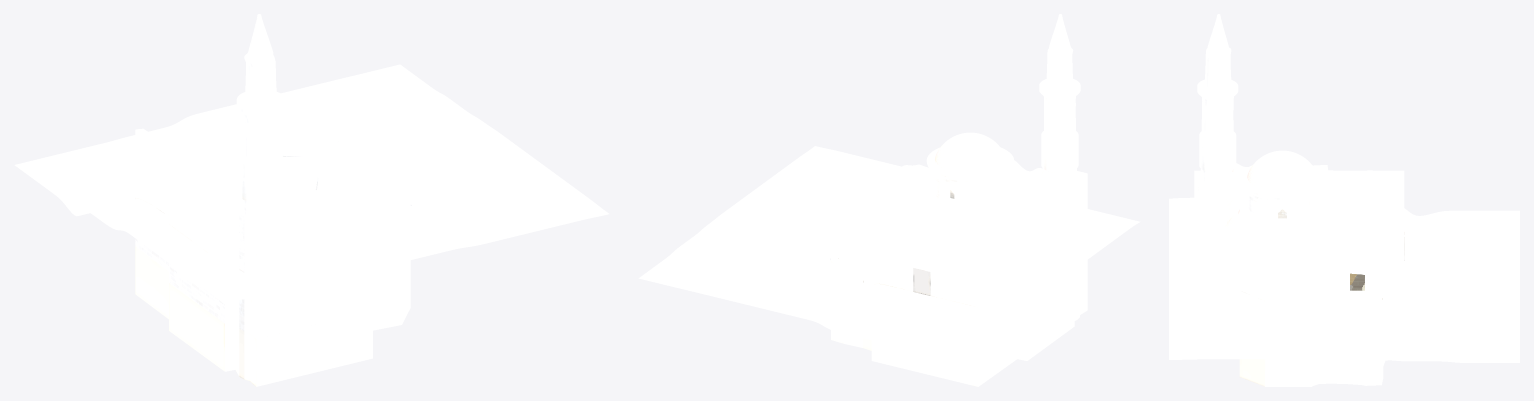
File: church_present.glb
3 views of the same model, side by side, from view 1: azimuth 30°, elevation 25°; view 2: azimuth 150°, elevation 25°; view 3: azimuth 270°, elevation 25° (orthographic). The views are drawn at different scales.
Visible parts, largest first — view 1: ctx_ground__rt, core_masonry__rt, south_masonry__rt, ground_slab__rt, minaret__rt, north_masonry__rt, dome_shell__rt, minaret_base__rt; view 2: ctx_ground__rt, north_masonry__rt, core_masonry__rt, ground_slab__rt, dome_shell__rt, minaret__rt, south_masonry__rt, door_north_main__rt; view 3: ctx_ground__rt, core_masonry__rt, north_masonry__rt, dome_shell__rt, minaret__rt, ground_slab__rt, south_masonry__rt, minaret_base__rt.
Part boxes in pixels (x1=…): ctx_ground__rt: x1=14, y1=64, x2=608, y2=303; core_masonry__rt: x1=169, y1=124, x2=410, y2=323; south_masonry__rt: x1=237, y1=194, x2=372, y2=338; ground_slab__rt: x1=135, y1=246, x2=410, y2=386; minaret__rt: x1=236, y1=14, x2=285, y2=203; north_masonry__rt: x1=135, y1=111, x2=358, y2=271; dome_shell__rt: x1=238, y1=99, x2=341, y2=190; minaret_base__rt: x1=241, y1=198, x2=281, y2=217; ctx_ground__rt: x1=638, y1=146, x2=1140, y2=363; north_masonry__rt: x1=831, y1=194, x2=1011, y2=307; core_masonry__rt: x1=860, y1=164, x2=1074, y2=320; ground_slab__rt: x1=831, y1=270, x2=1087, y2=386; dome_shell__rt: x1=926, y1=132, x2=1014, y2=209; minaret__rt: x1=1039, y1=14, x2=1080, y2=172; south_masonry__rt: x1=1013, y1=160, x2=1087, y2=280; door_north_main__rt: x1=913, y1=268, x2=930, y2=295; ctx_ground__rt: x1=1169, y1=197, x2=1519, y2=362; core_masonry__rt: x1=1226, y1=163, x2=1338, y2=301; north_masonry__rt: x1=1338, y1=170, x2=1404, y2=307; dome_shell__rt: x1=1239, y1=150, x2=1325, y2=223; minaret__rt: x1=1197, y1=14, x2=1238, y2=172; ground_slab__rt: x1=1239, y1=359, x2=1387, y2=386; south_masonry__rt: x1=1194, y1=170, x2=1226, y2=265; minaret_base__rt: x1=1200, y1=168, x2=1232, y2=185.
Bounding box in the file's own units: 23.6 × 20.92 × 22.2.
Materials: 15 (15 with a texture image).
